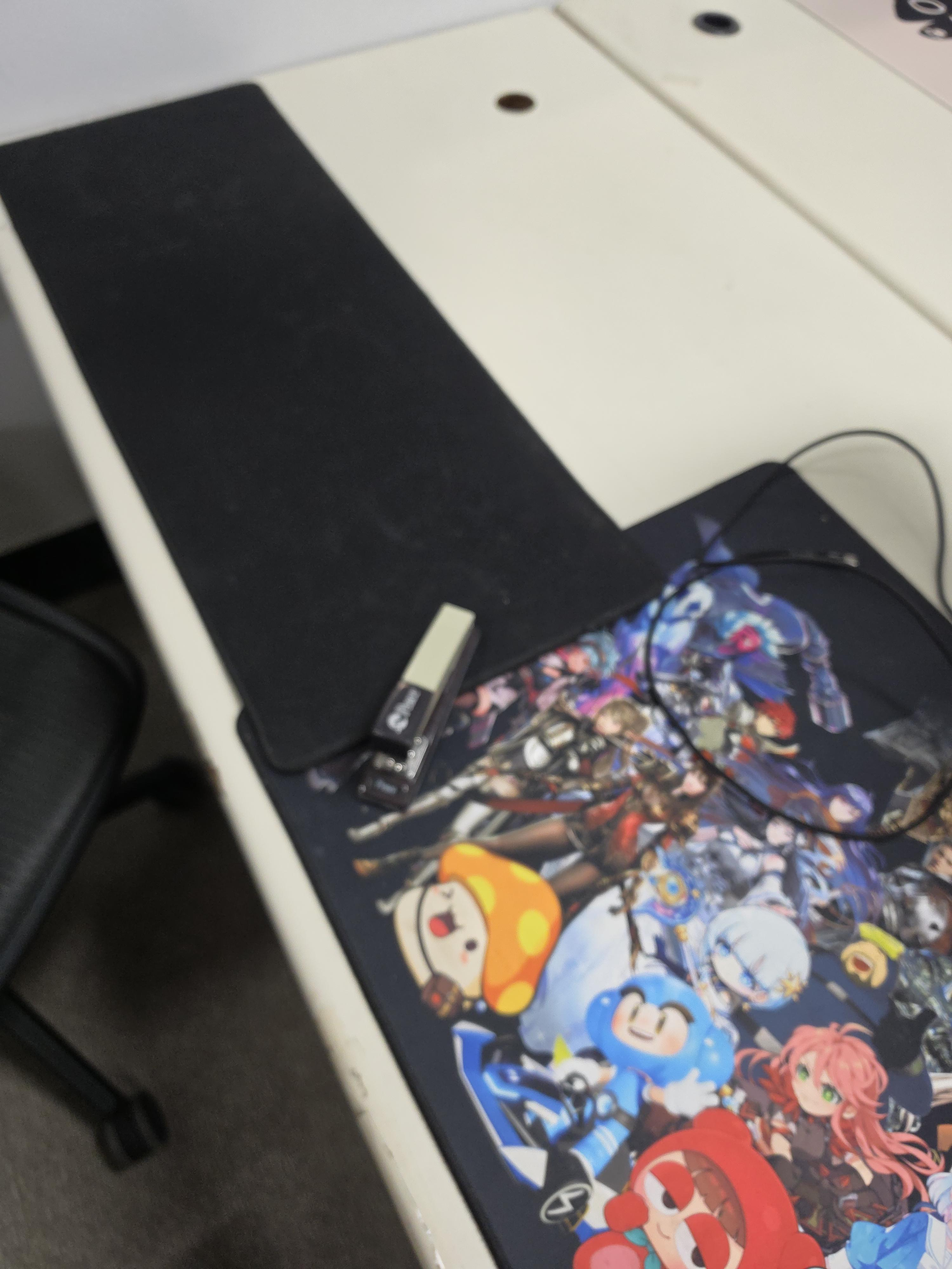stapler: (353, 601, 482, 812)
